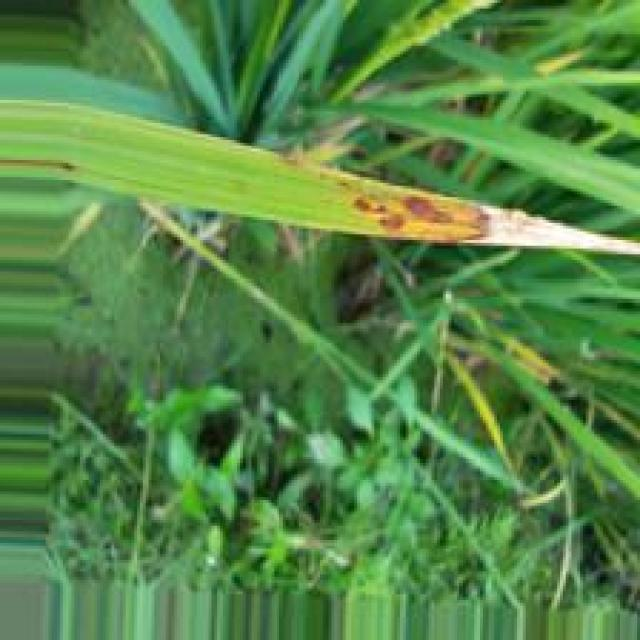Leaf_Scald: (445, 201, 638, 253), (346, 193, 416, 236), (398, 194, 453, 227)
